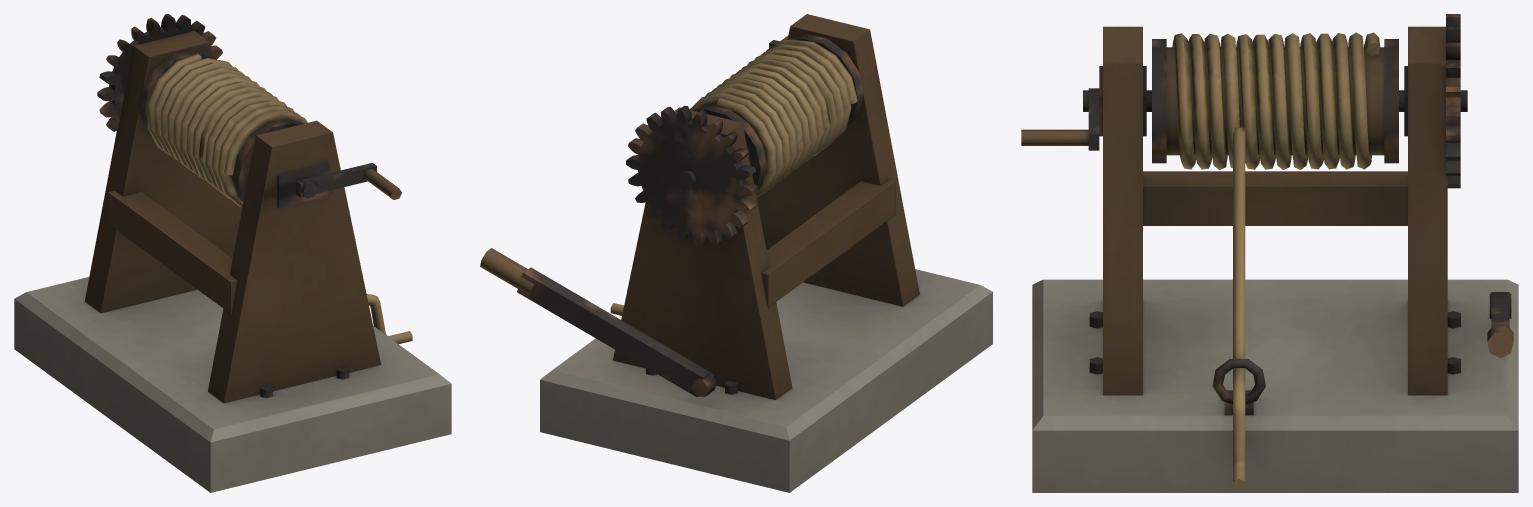
Rendered from winch.down.glb.
The picture shows the model from 3 angles, left to right: view 1: azimuth 30°, elevation 25°; view 2: azimuth 150°, elevation 25°; view 3: azimuth 270°, elevation 25°; orthographic projection. The views are drawn at different scales.
Visible parts, largest first — view 1: winch.down; view 2: winch.down; view 3: winch.down.
Part boxes in pixels (left/top/right/bottom): winch.down: left=14, top=14, right=451, bottom=492; winch.down: left=480, top=14, right=992, bottom=492; winch.down: left=1021, top=14, right=1518, bottom=492.
Size of the model in its own units: 1.19 by 1.21 by 1.37.
Materials: 1 (1 with a texture image).
